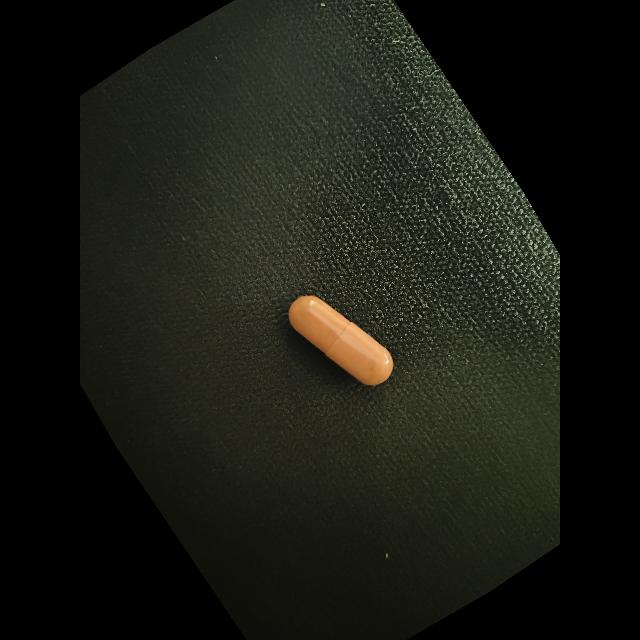Intact Capsule: (289, 295, 394, 385)
